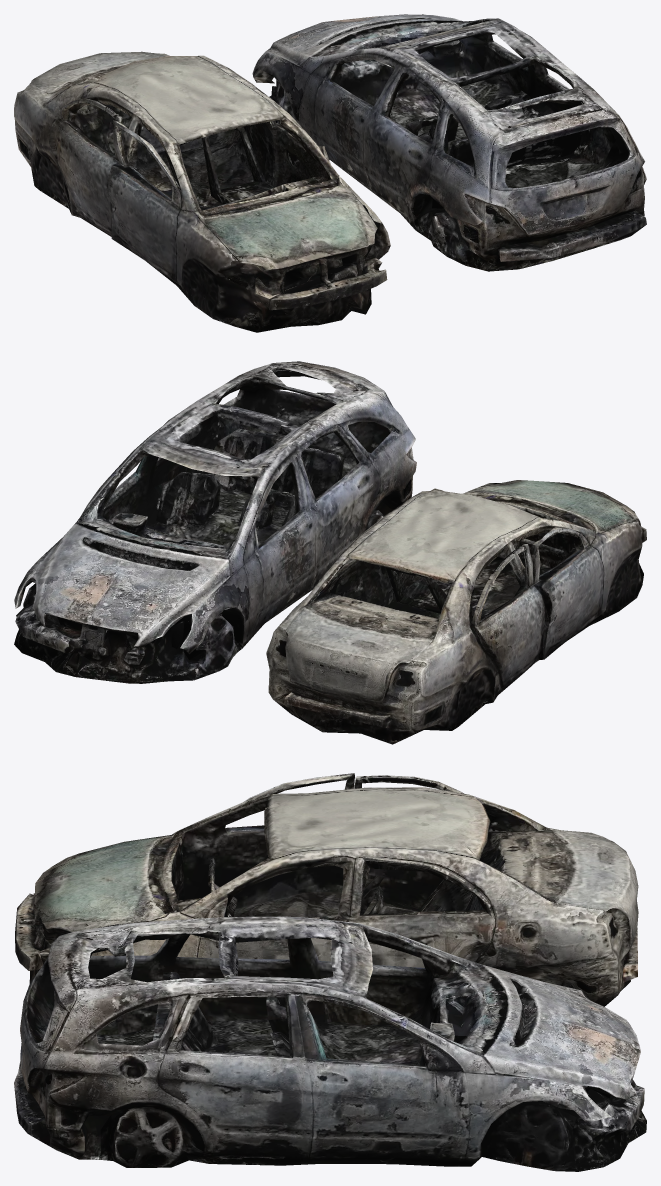
File: burnt-cars.glb
3 renders of one model, top to bottom at view 1: azimuth 30°, elevation 25°; view 2: azimuth 150°, elevation 25°; view 3: azimuth 270°, elevation 25°, orthographic. The views are drawn at different scales.
Visible parts, largest first — view 1: default002_Material #26_0, default001_Material #25_0; view 2: default001_Material #25_0, default002_Material #26_0; view 3: default001_Material #25_0, default002_Material #26_0.
Boxes of the visible parts, x1,y1,x2,y2 form: default002_Material #26_0: (14, 51, 390, 332); default001_Material #25_0: (252, 14, 646, 271); default001_Material #25_0: (14, 361, 416, 683); default002_Material #26_0: (266, 480, 646, 744); default001_Material #25_0: (14, 916, 646, 1171); default002_Material #26_0: (15, 773, 638, 1006).
Bounding box in the file's own units: 8 × 2.46 × 8.35.
2 materials, 2 textured.
